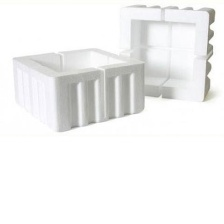foam_box: (7, 45, 150, 136), (115, 2, 218, 104)
